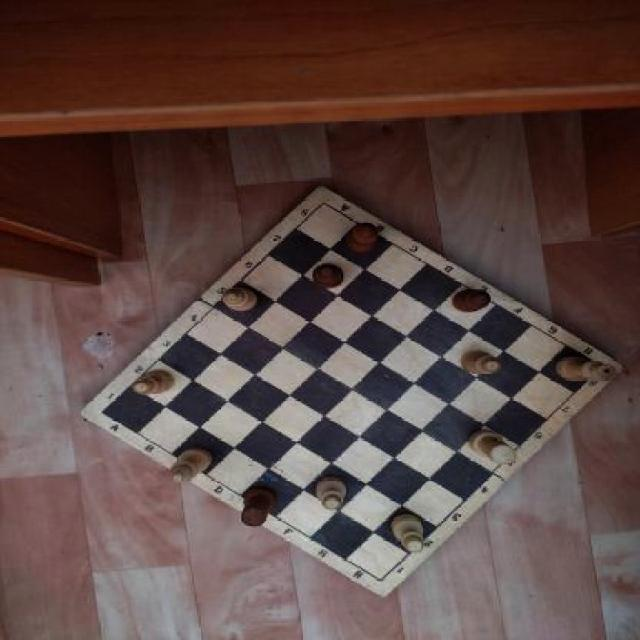chess-table-corners: (582, 350, 620, 387), (360, 564, 402, 594), (85, 397, 124, 428), (302, 191, 344, 217)
